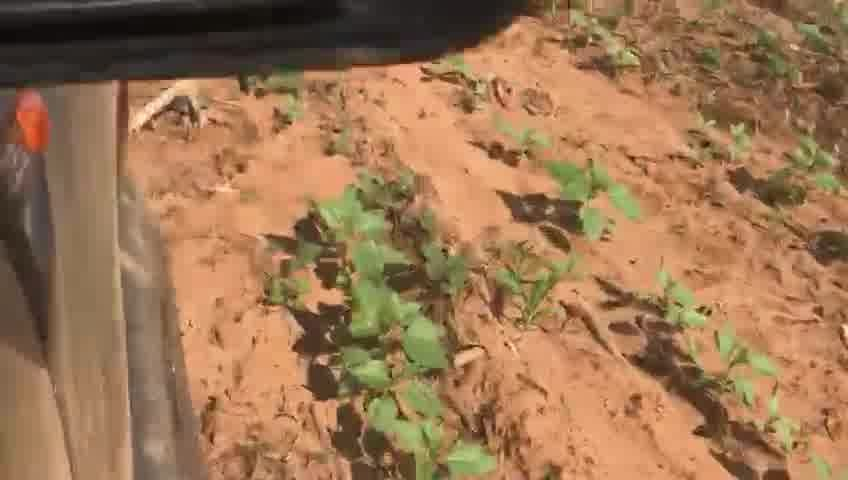sunflower: (273, 175, 464, 311), (310, 292, 468, 395), (367, 385, 504, 475), (527, 154, 653, 250), (703, 325, 786, 415), (774, 135, 836, 216), (653, 270, 715, 345), (704, 114, 772, 167)
